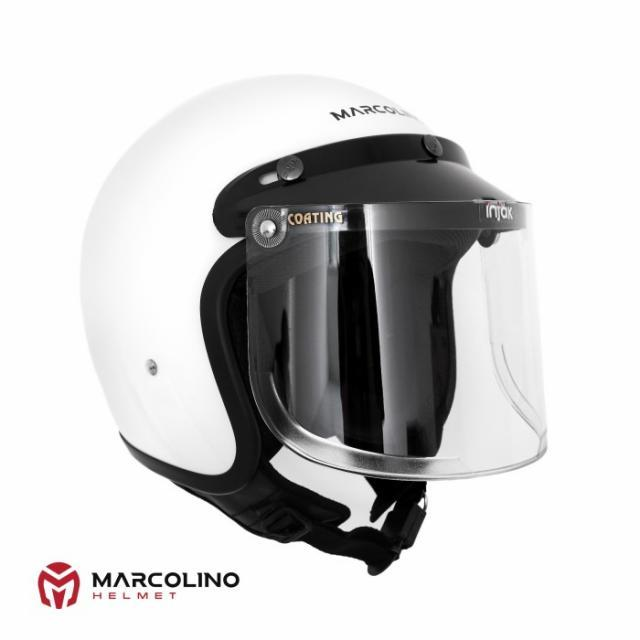Helm: (79, 70, 548, 534)
